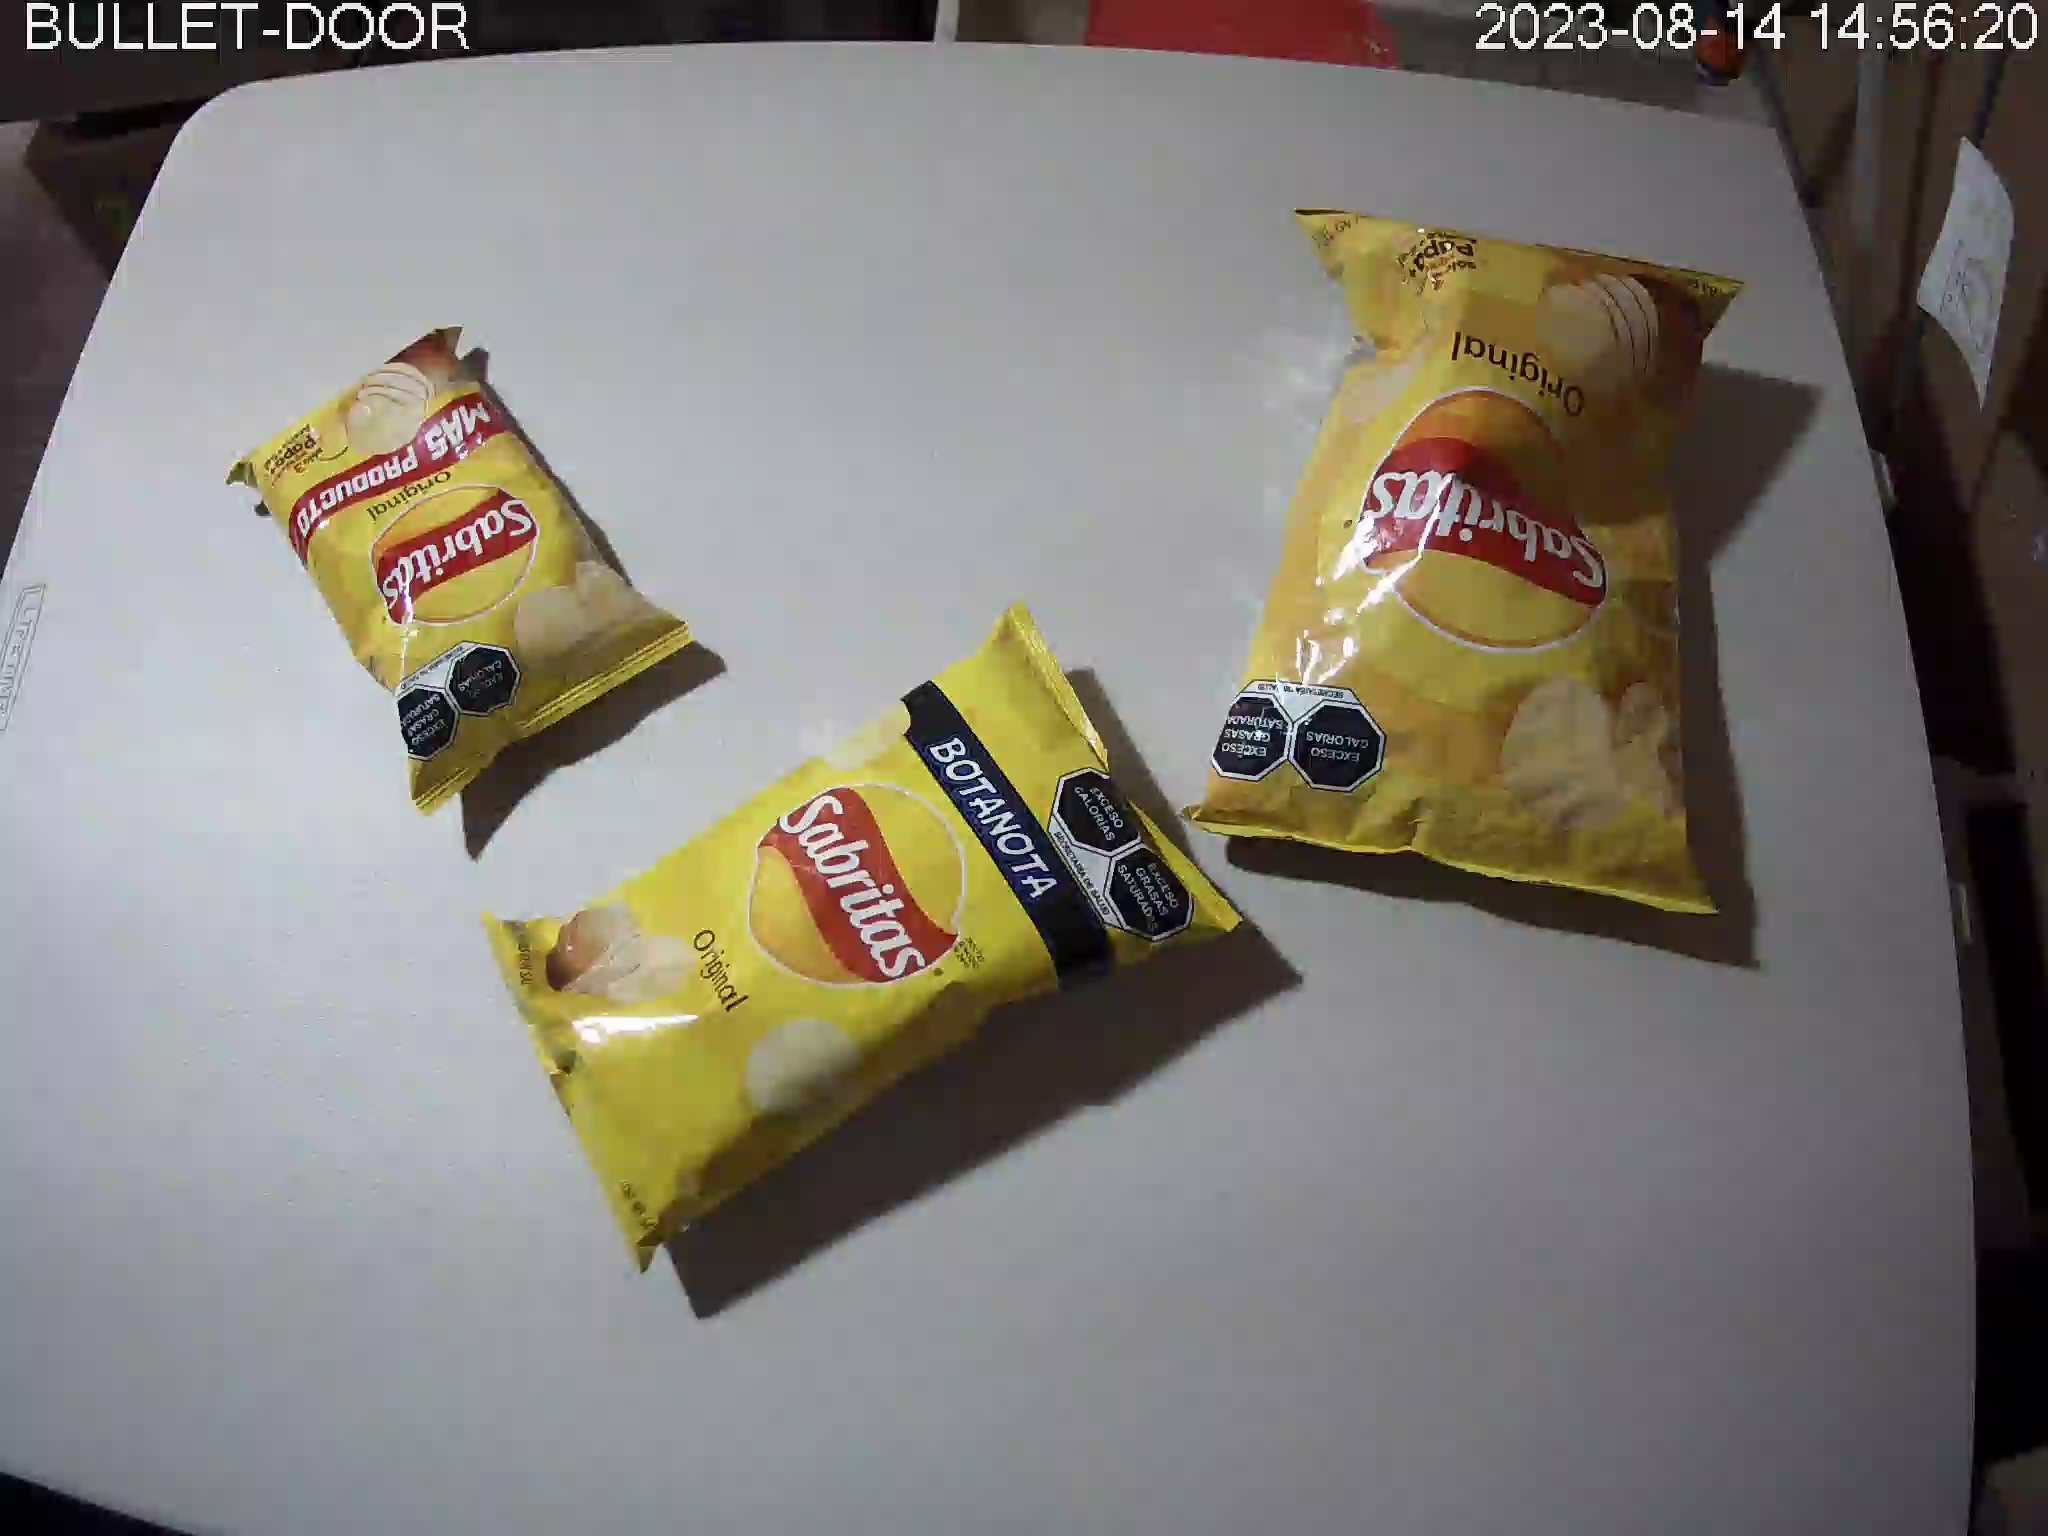Sabritas_160_F: (1179, 210, 1750, 920)
Sabritas_45_F: (224, 323, 692, 816)
Sabritas_64_F: (479, 603, 1245, 1276)
